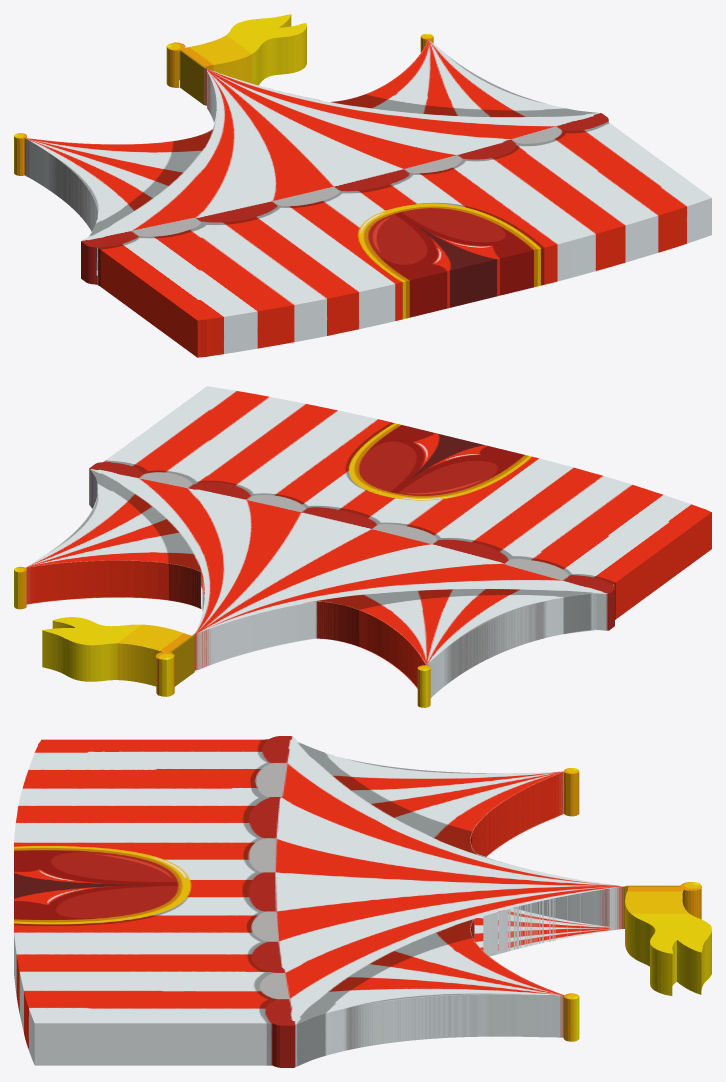
Rendered from tent.fbx.
3 renders of one model, top to bottom at view 1: azimuth 30°, elevation 25°; view 2: azimuth 150°, elevation 25°; view 3: azimuth 270°, elevation 25°, orthographic. The views are drawn at different scales.
Visible parts, largest first — view 1: Curve.001; view 2: Curve.001; view 3: Curve.001.
Part boxes in pixels (x1=…): Curve.001: x1=14, y1=14, x2=711, y2=357; Curve.001: x1=14, y1=386, x2=711, y2=707; Curve.001: x1=14, y1=736, x2=711, y2=1067.
Size of the model in its own units: 357 by 24.33 by 364.
1 material, 1 textured.
